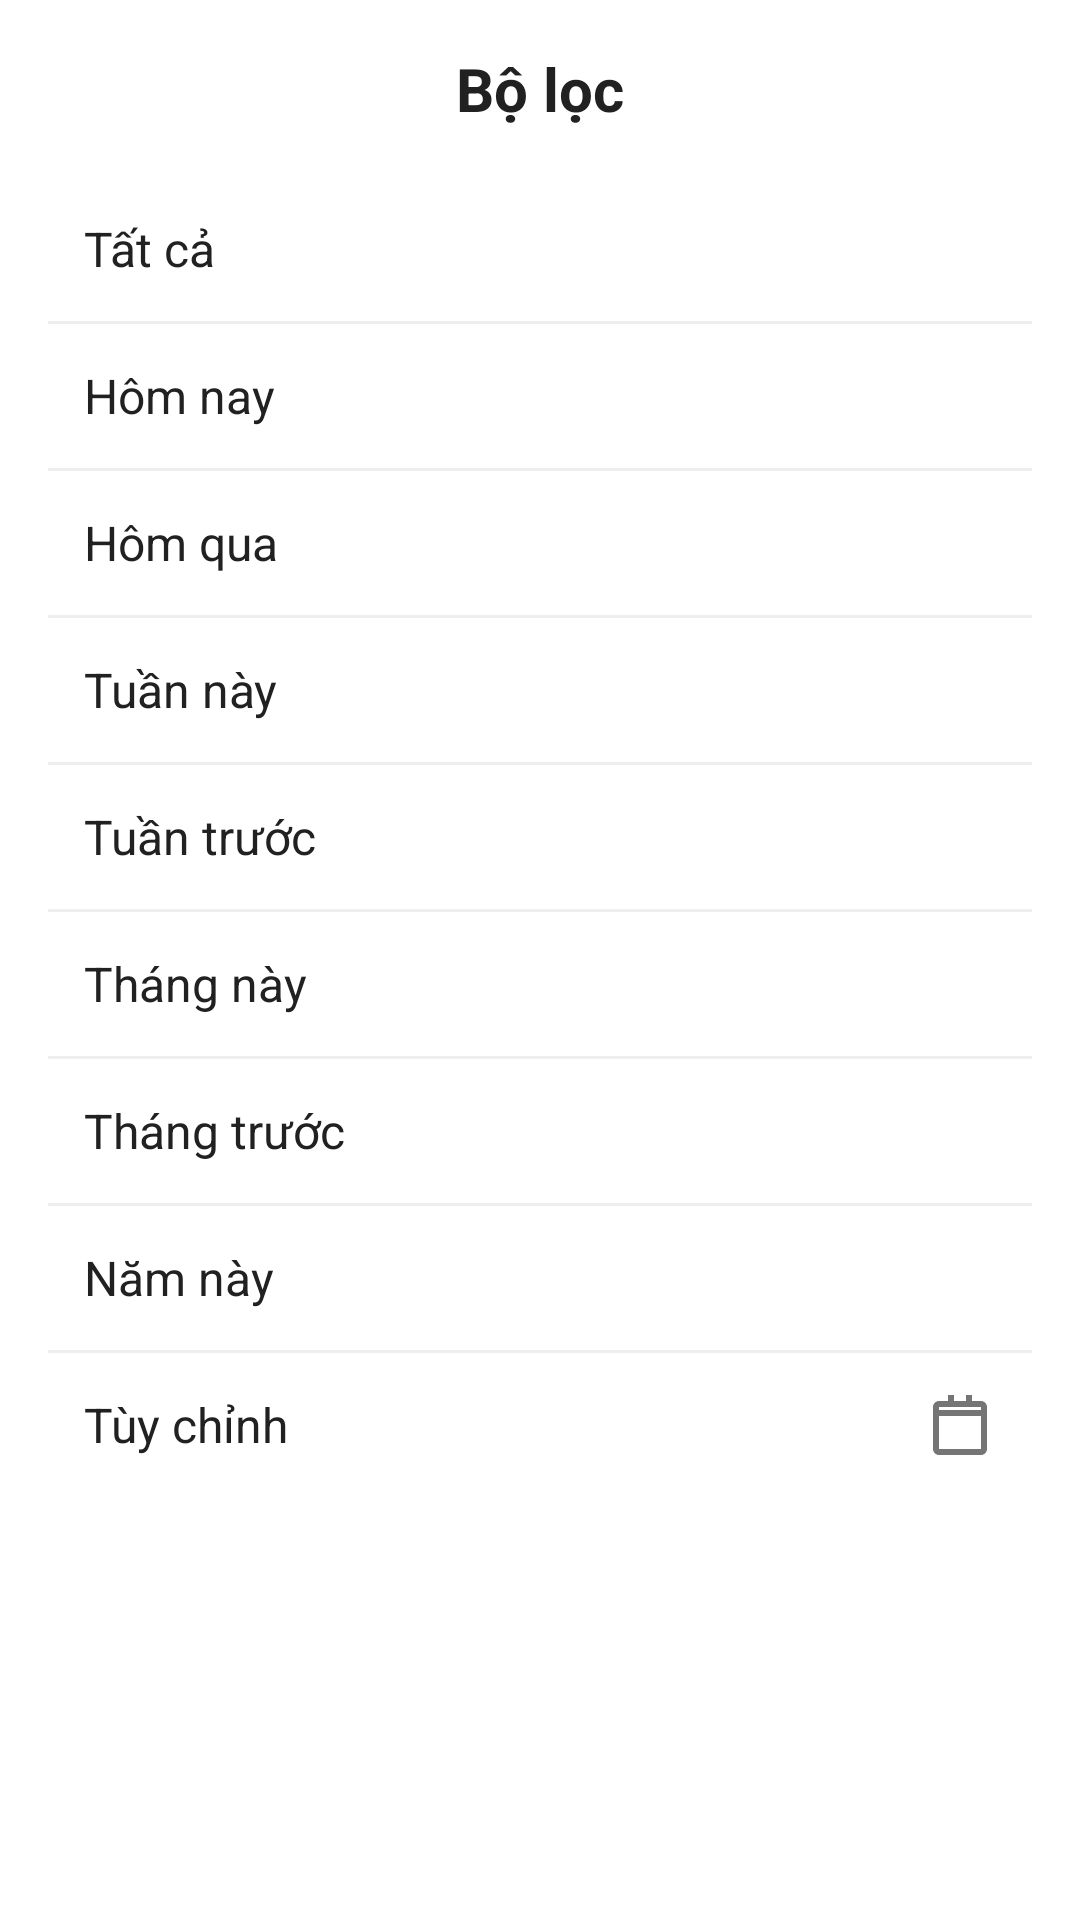

Icon click points for this 1080 x 1920 phone screenshot, format point (x, y):
calendar: point (960, 1425)
